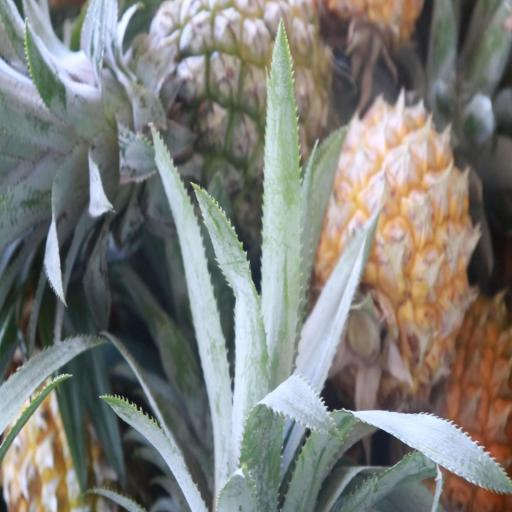Pineapple - v8 v1: (318, 100, 472, 388)
